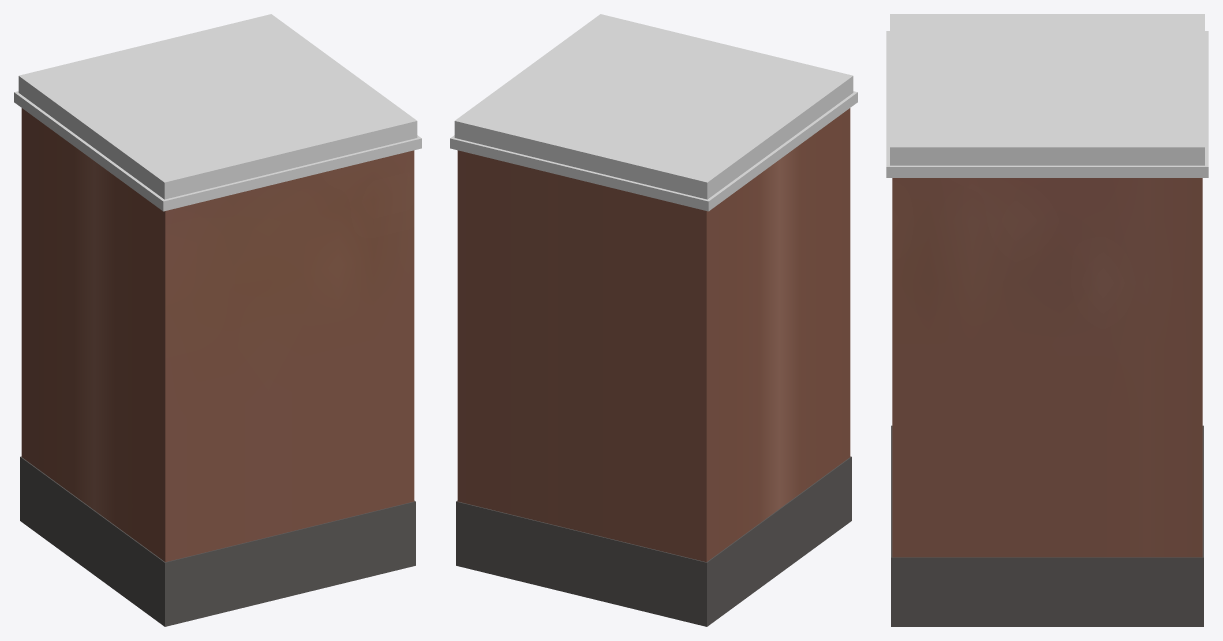
The model's file is bldg_brick_tall.glb.
3 views of the same model, side by side, from view 1: azimuth 30°, elevation 25°; view 2: azimuth 150°, elevation 25°; view 3: azimuth 270°, elevation 25° (orthographic). The views are drawn at different scales.
Visible parts, largest first — view 1: bldg_brick_tall_body, bldg_brick_tall_parapet, bldg_brick_tall_store, bldg_brick_tall_corn; view 2: bldg_brick_tall_body, bldg_brick_tall_parapet, bldg_brick_tall_store, bldg_brick_tall_corn; view 3: bldg_brick_tall_body, bldg_brick_tall_parapet, bldg_brick_tall_store, bldg_brick_tall_corn.
Part boxes in pixels (<box>): bldg_brick_tall_body: <box>21,108,414,561</box>; bldg_brick_tall_parapet: <box>18,14,417,199</box>; bldg_brick_tall_store: <box>20,456,415,626</box>; bldg_brick_tall_corn: <box>14,91,421,211</box>; bldg_brick_tall_body: <box>457,108,850,561</box>; bldg_brick_tall_parapet: <box>454,14,853,199</box>; bldg_brick_tall_store: <box>456,456,851,626</box>; bldg_brick_tall_corn: <box>450,91,857,211</box>; bldg_brick_tall_body: <box>892,178,1202,557</box>; bldg_brick_tall_parapet: <box>890,14,1204,165</box>; bldg_brick_tall_store: <box>891,425,1203,626</box>; bldg_brick_tall_corn: <box>886,31,1208,177</box>.
Bounding box in the file's own units: 13.5 × 22.2 × 13.5.
Materials: 2 (1 with a texture image).
